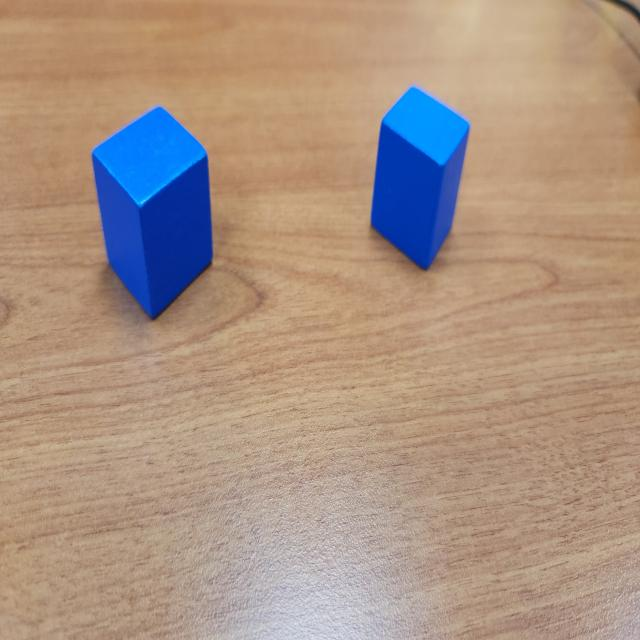blue: (90, 104, 215, 319), (369, 83, 471, 273)
